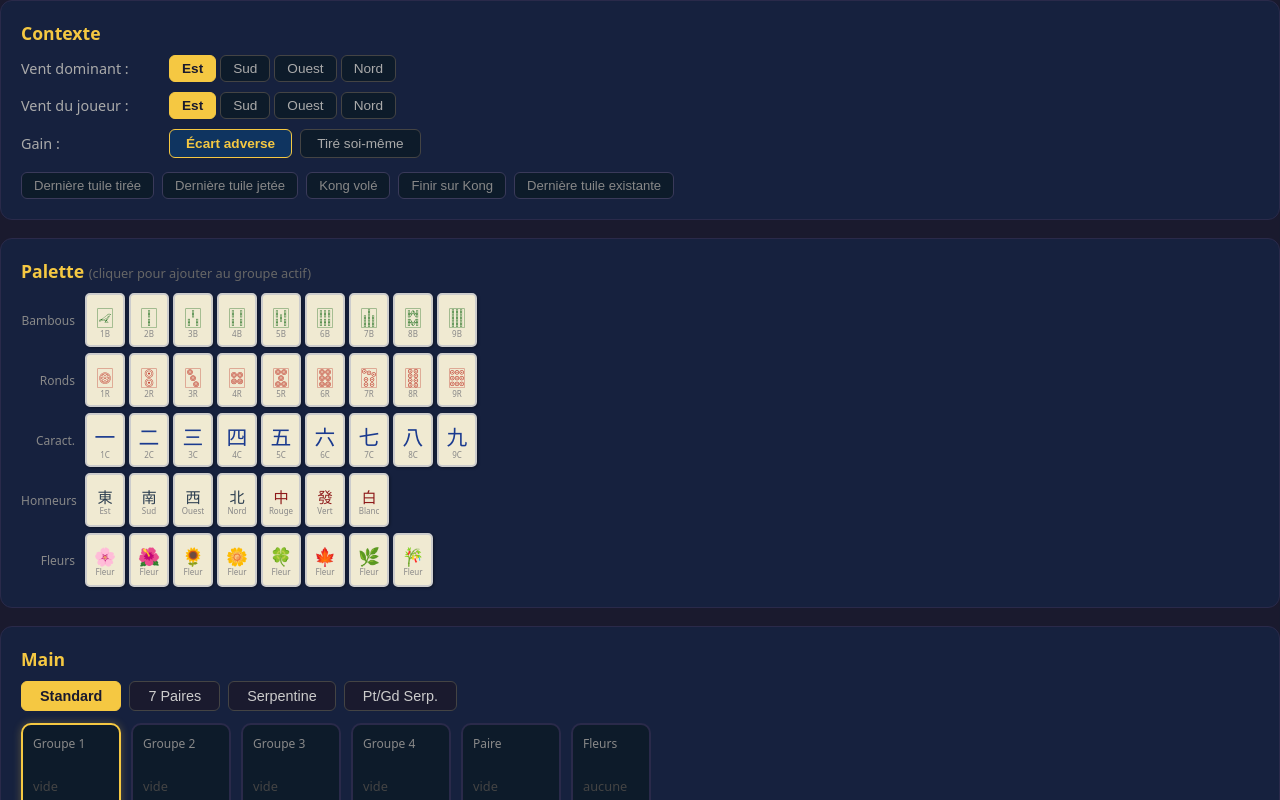
CalculatorTab — ajout et suppression de tuiles › cliquer sur une tuile l'ajoute au slot actif
This screenshot has width=1280, height=800.
Click the element titled "3B".
click(193, 320)  # box [173, 293, 213, 347]
(page scrolled)
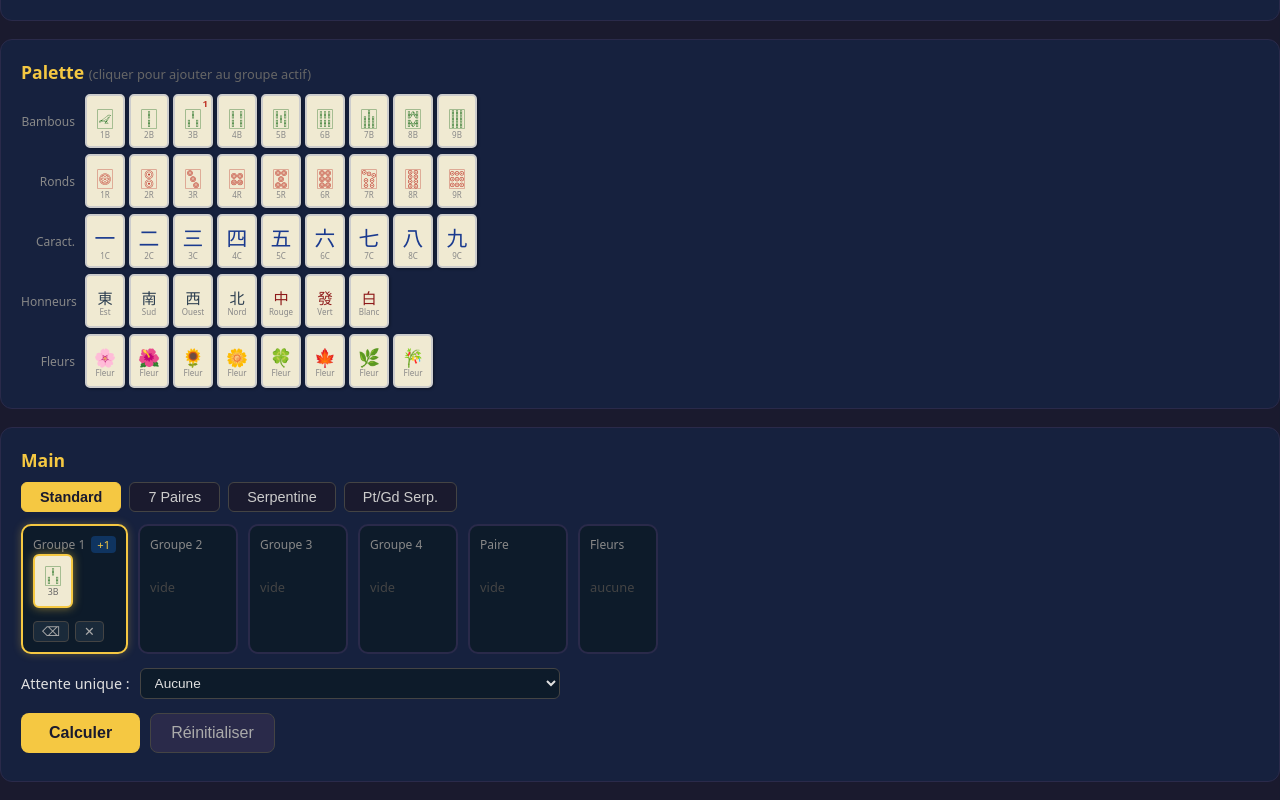
Expected: the element with class "builder-slot" shows "3B", [48, 586, 58, 598]
